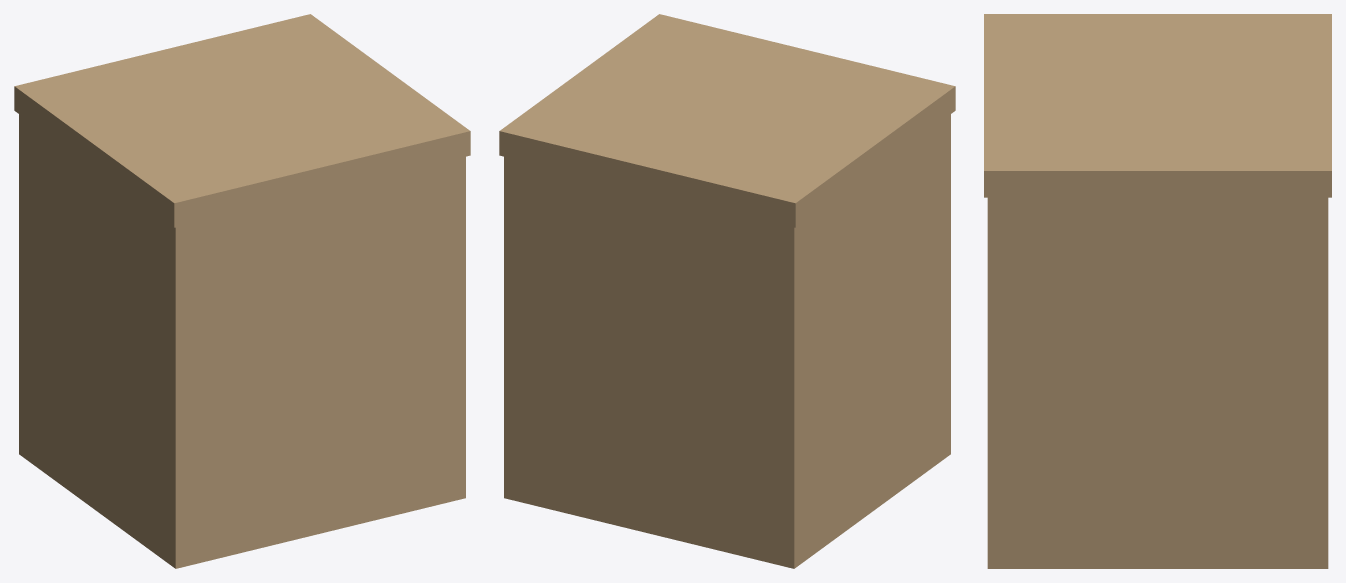
File: res_box_t1.glb
The picture shows the model from 3 angles, left to right: view 1: azimuth 30°, elevation 25°; view 2: azimuth 150°, elevation 25°; view 3: azimuth 270°, elevation 25°; orthographic projection. The views are drawn at different scales.
Parts seen in each view (by area): view 1: res_box_t1; view 2: res_box_t1; view 3: res_box_t1.
Boxes of the visible parts, x1,y1,x2,y2 form: res_box_t1: [14, 14, 470, 568]; res_box_t1: [499, 14, 955, 568]; res_box_t1: [984, 14, 1331, 568].
Size of the model in its own units: 0.6324 by 0.75 by 0.5916.
